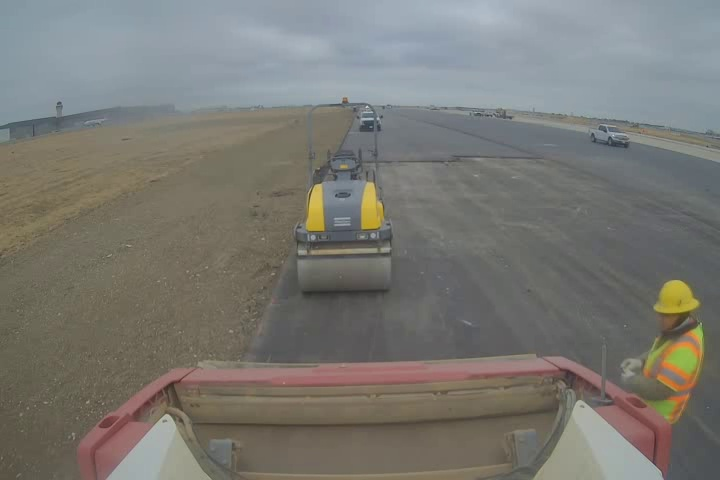person: (618, 277, 709, 468)
vehicle: (72, 351, 671, 480), (292, 102, 394, 293), (588, 118, 631, 148), (351, 108, 385, 130)
vest: (621, 319, 707, 428)
yellow_helmet: (648, 277, 700, 340)
